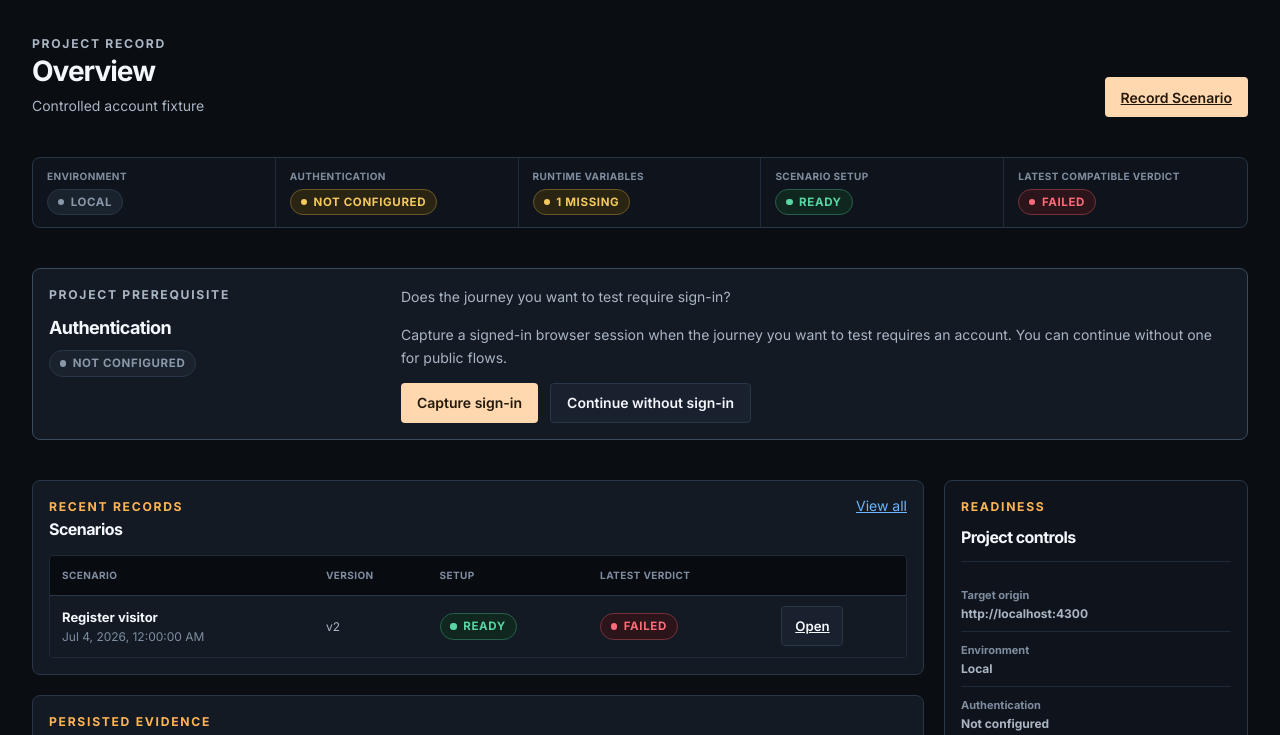
it: CRM project surfaces › requires an explicit confirmation before continuing without sign-in
The image size is (1280, 735).
Expected: the text "Not configured" is shown, [290,189,437,215]
Expected: the text "Does the journey you want to test require sign-in?" is shown, [401,288,730,305]
What coordinates should you click on to do the following:
click the button "Continue without sign-in"
I would click on:
 (651, 403)
Its box is [550,383,751,423].
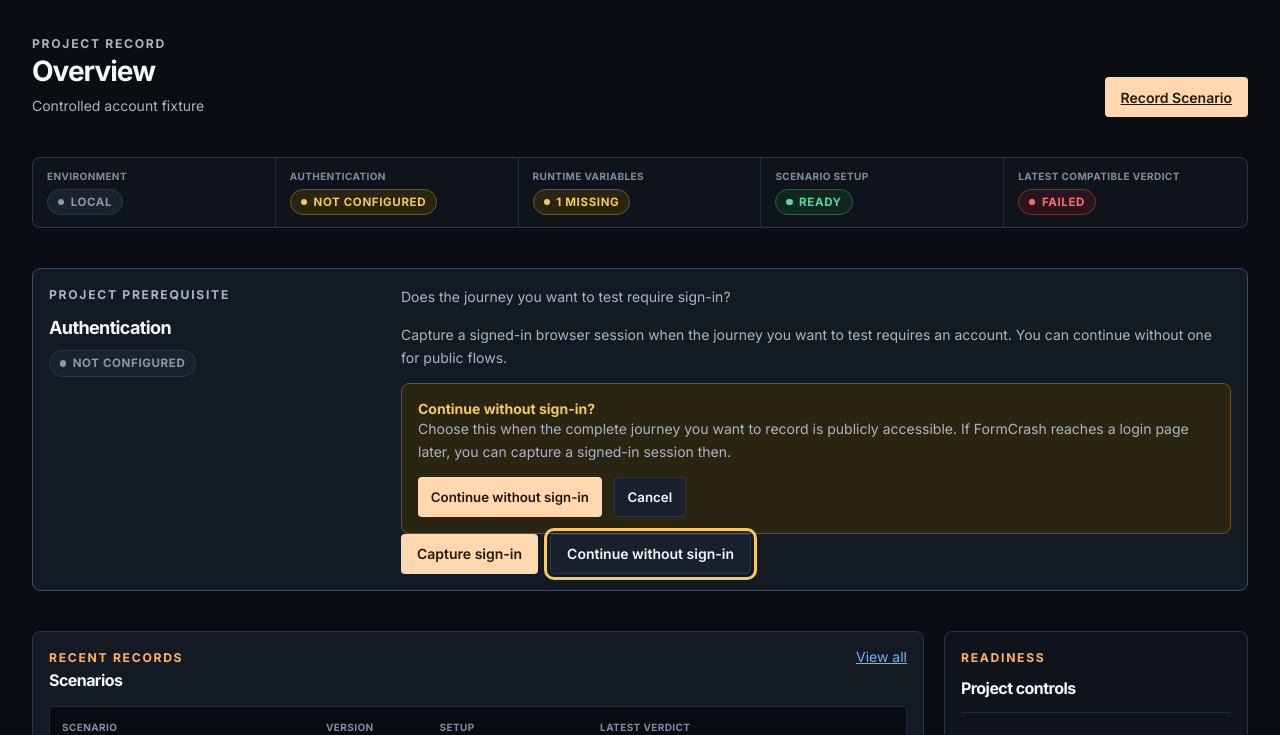
Result: the text "Continue without sign-in?" is shown at [418,400,595,417]
What coordinates should you click on to do the following:
click the button "Cancel"
I would click on:
 (650, 497)
Its box is [614,477,686,517].
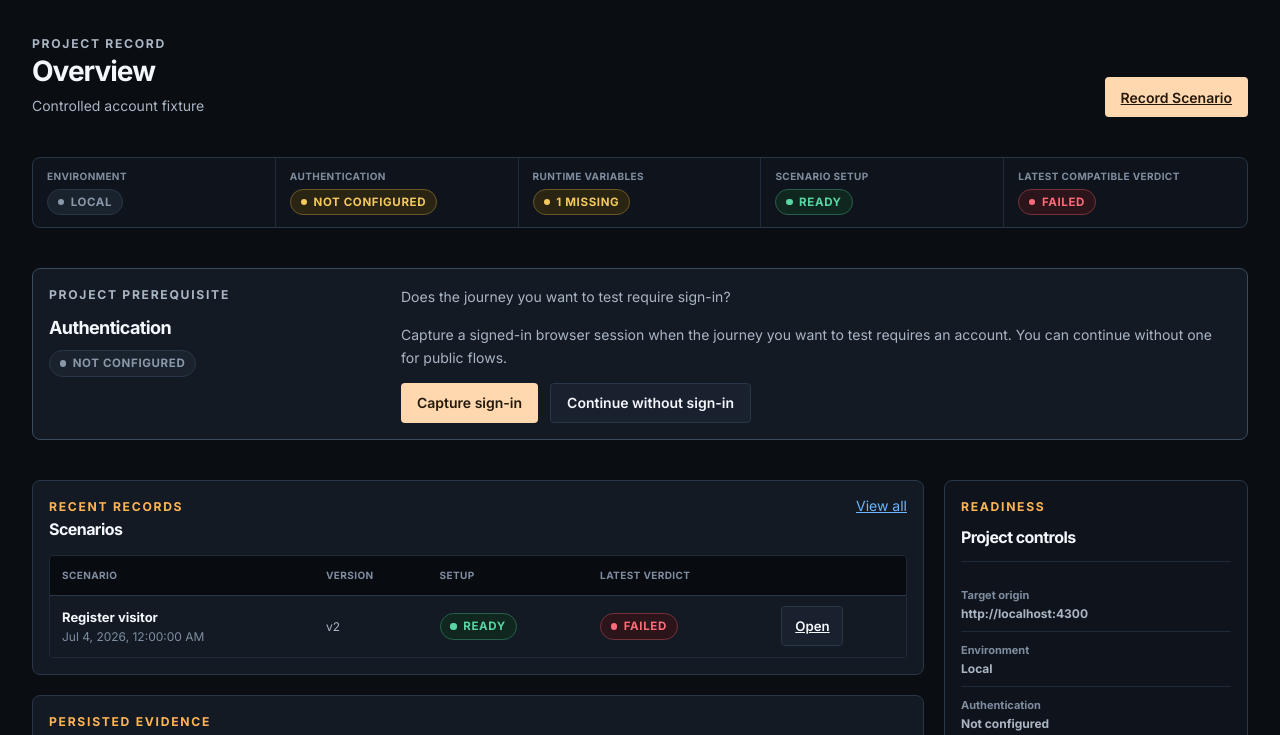
What coordinates should you click on to do the following:
click the button "Continue without sign-in"
I would click on:
 (651, 403)
Its box is [550,383,751,423].
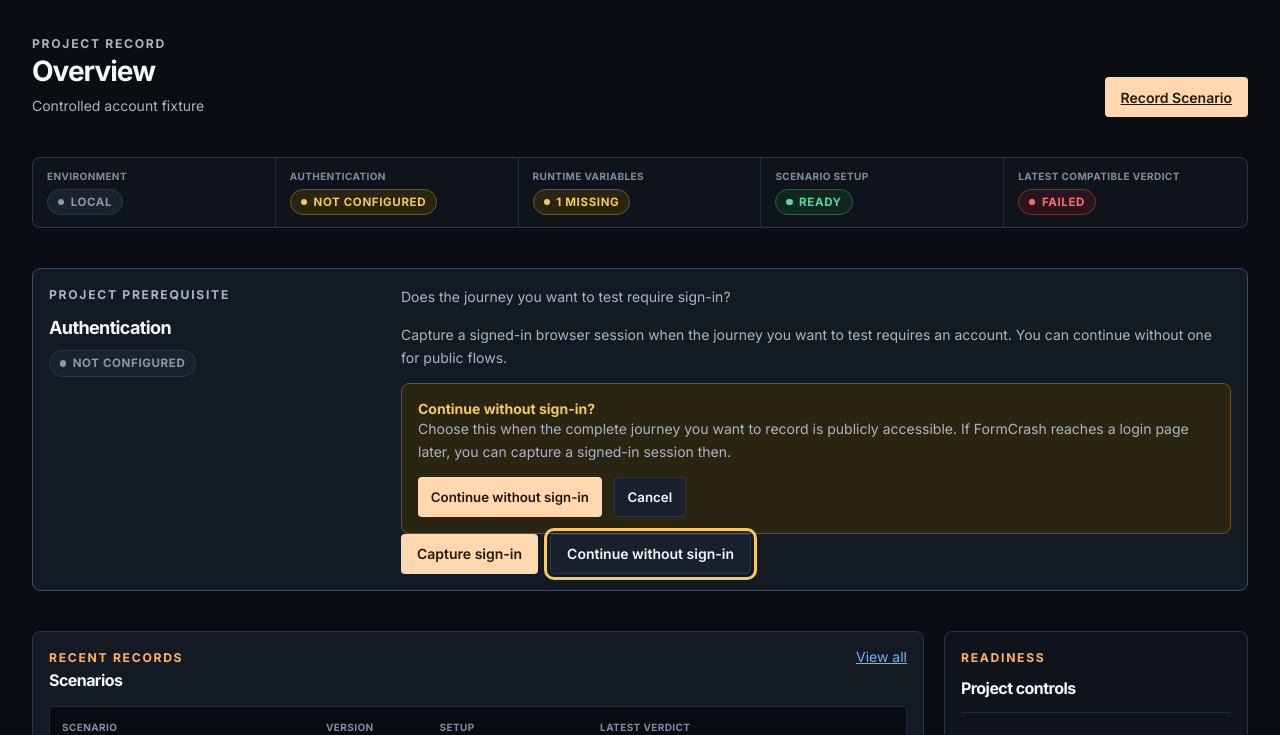
What coordinates should you click on to do the following:
click the button "Continue without sign-in" below "Continue without sign-in?"
I would click on:
 (510, 497)
Its box is [418,477,602,517].
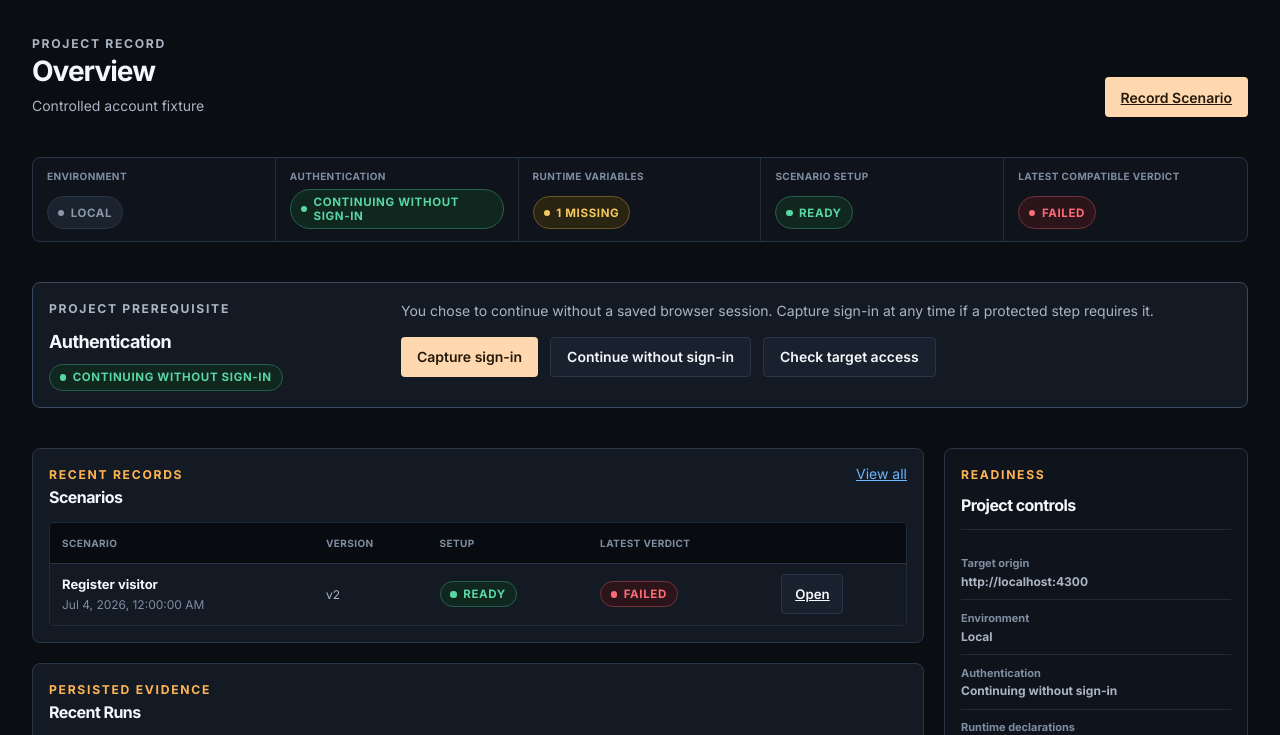
Expected: the button "Capture sign-in" is shown, [401,336,538,376]
Result: the text "Continuing without sign-in" is shown at [290,189,504,229]
